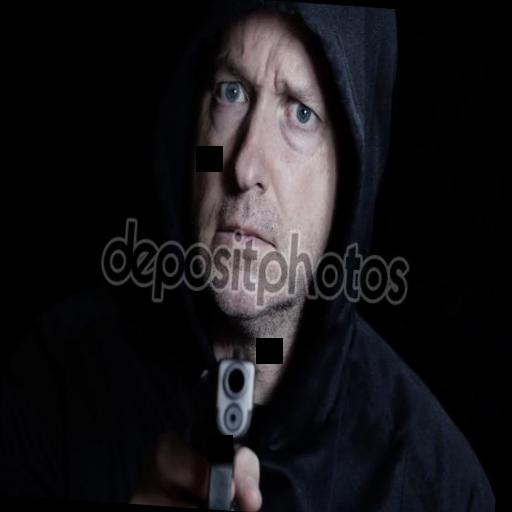Handgun: (172, 361, 272, 508)
